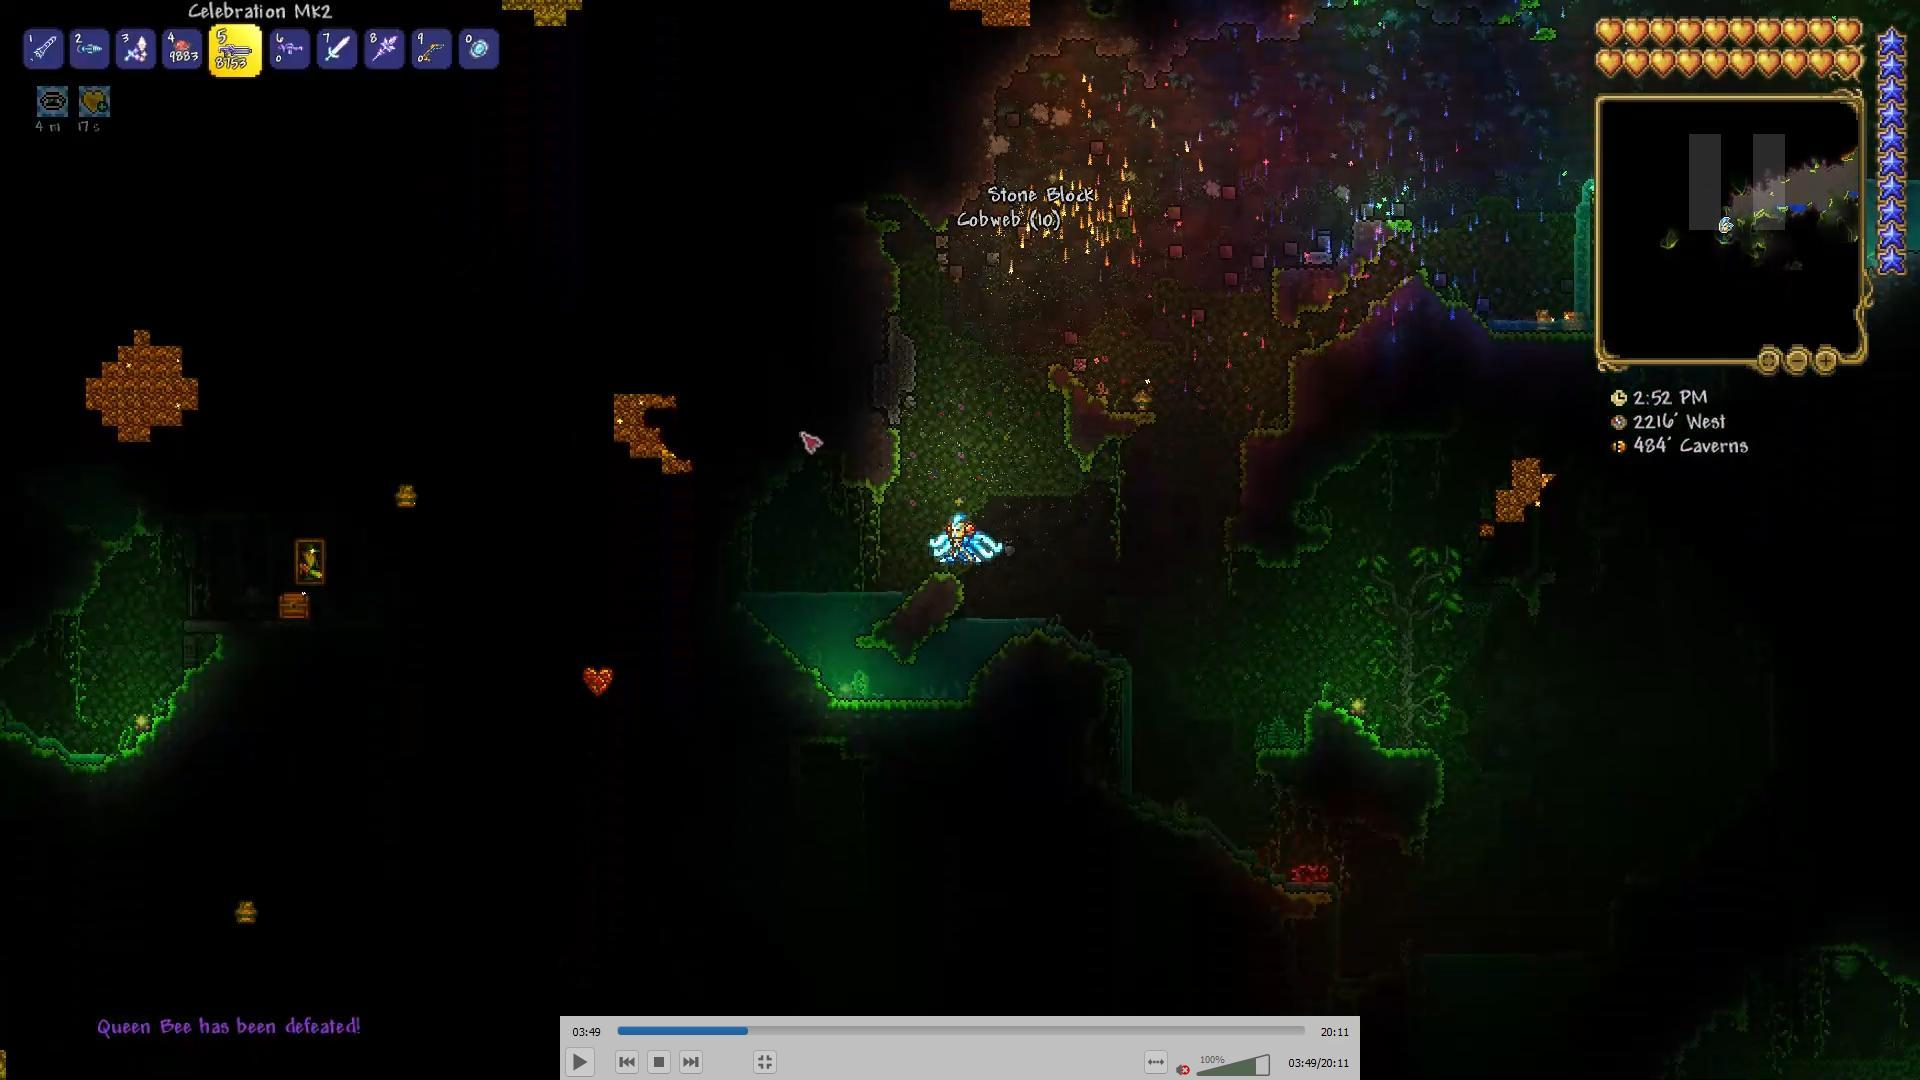chest: (274, 588, 310, 621)
lifeC: (579, 658, 617, 696)
